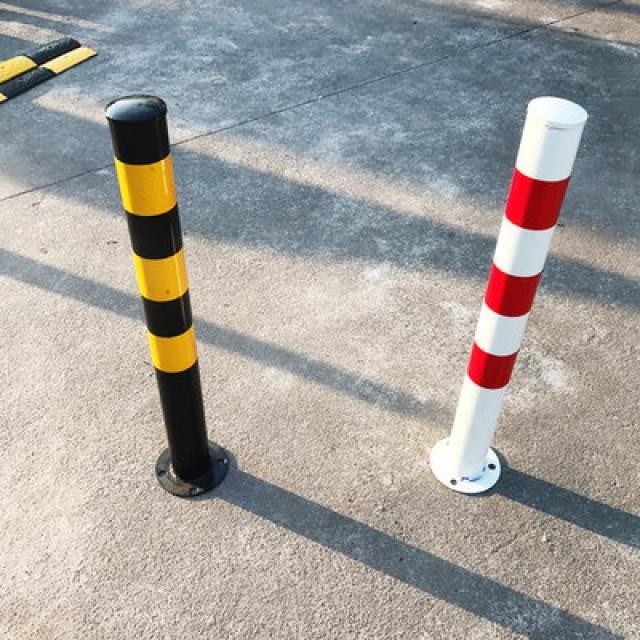warning_column: (427, 96, 586, 496), (107, 93, 227, 496)
